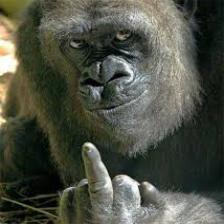monkey: (1, 2, 224, 138)
